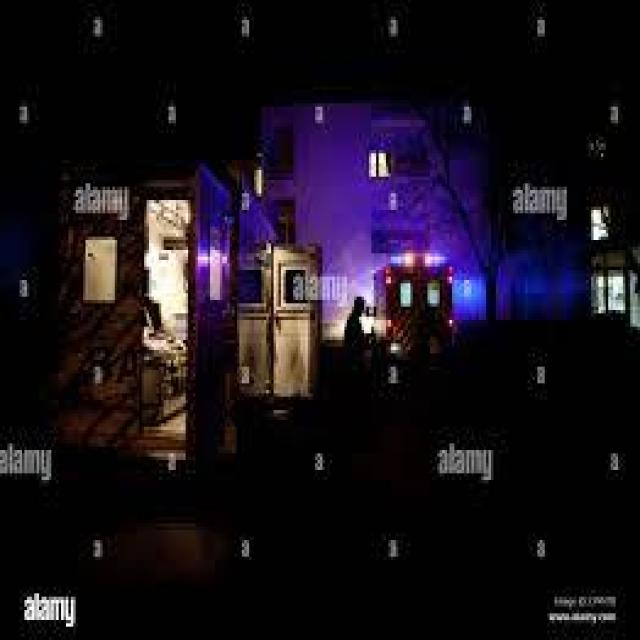ambulance: (369, 250, 460, 346)
